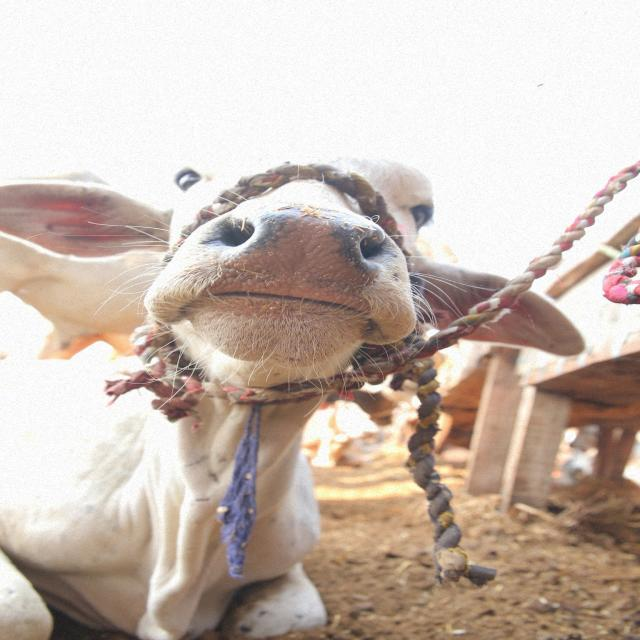muzzles: (182, 199, 408, 319)
